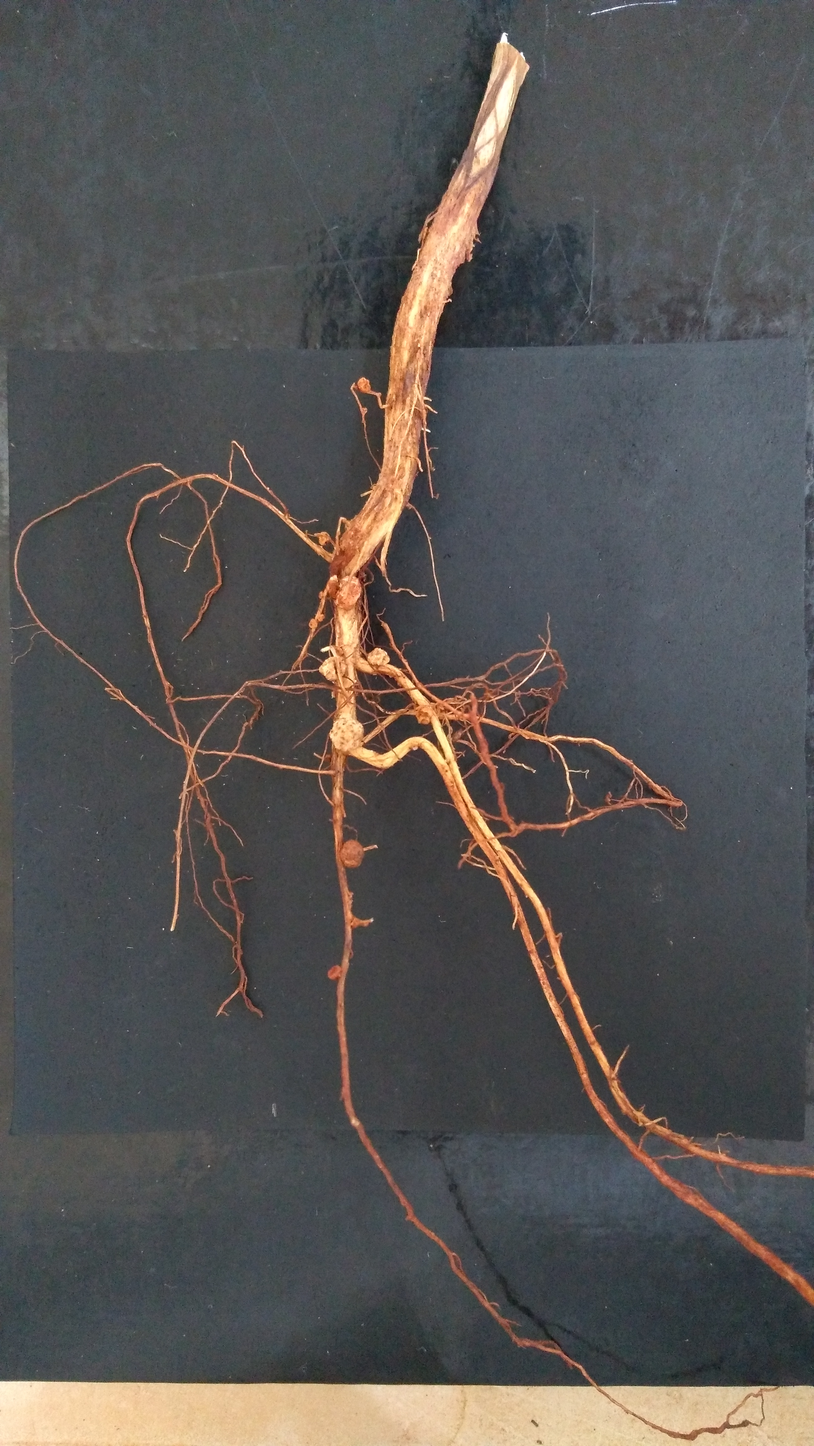nodule: (329, 714, 364, 752), (333, 575, 362, 610), (319, 656, 347, 682), (340, 839, 364, 868), (414, 705, 445, 725), (368, 648, 390, 665), (327, 964, 342, 981), (357, 377, 370, 393), (318, 532, 330, 545), (351, 914, 360, 930), (331, 646, 343, 656), (308, 618, 317, 628), (317, 614, 325, 622), (324, 755, 331, 762), (362, 407, 367, 414), (318, 591, 323, 598)
